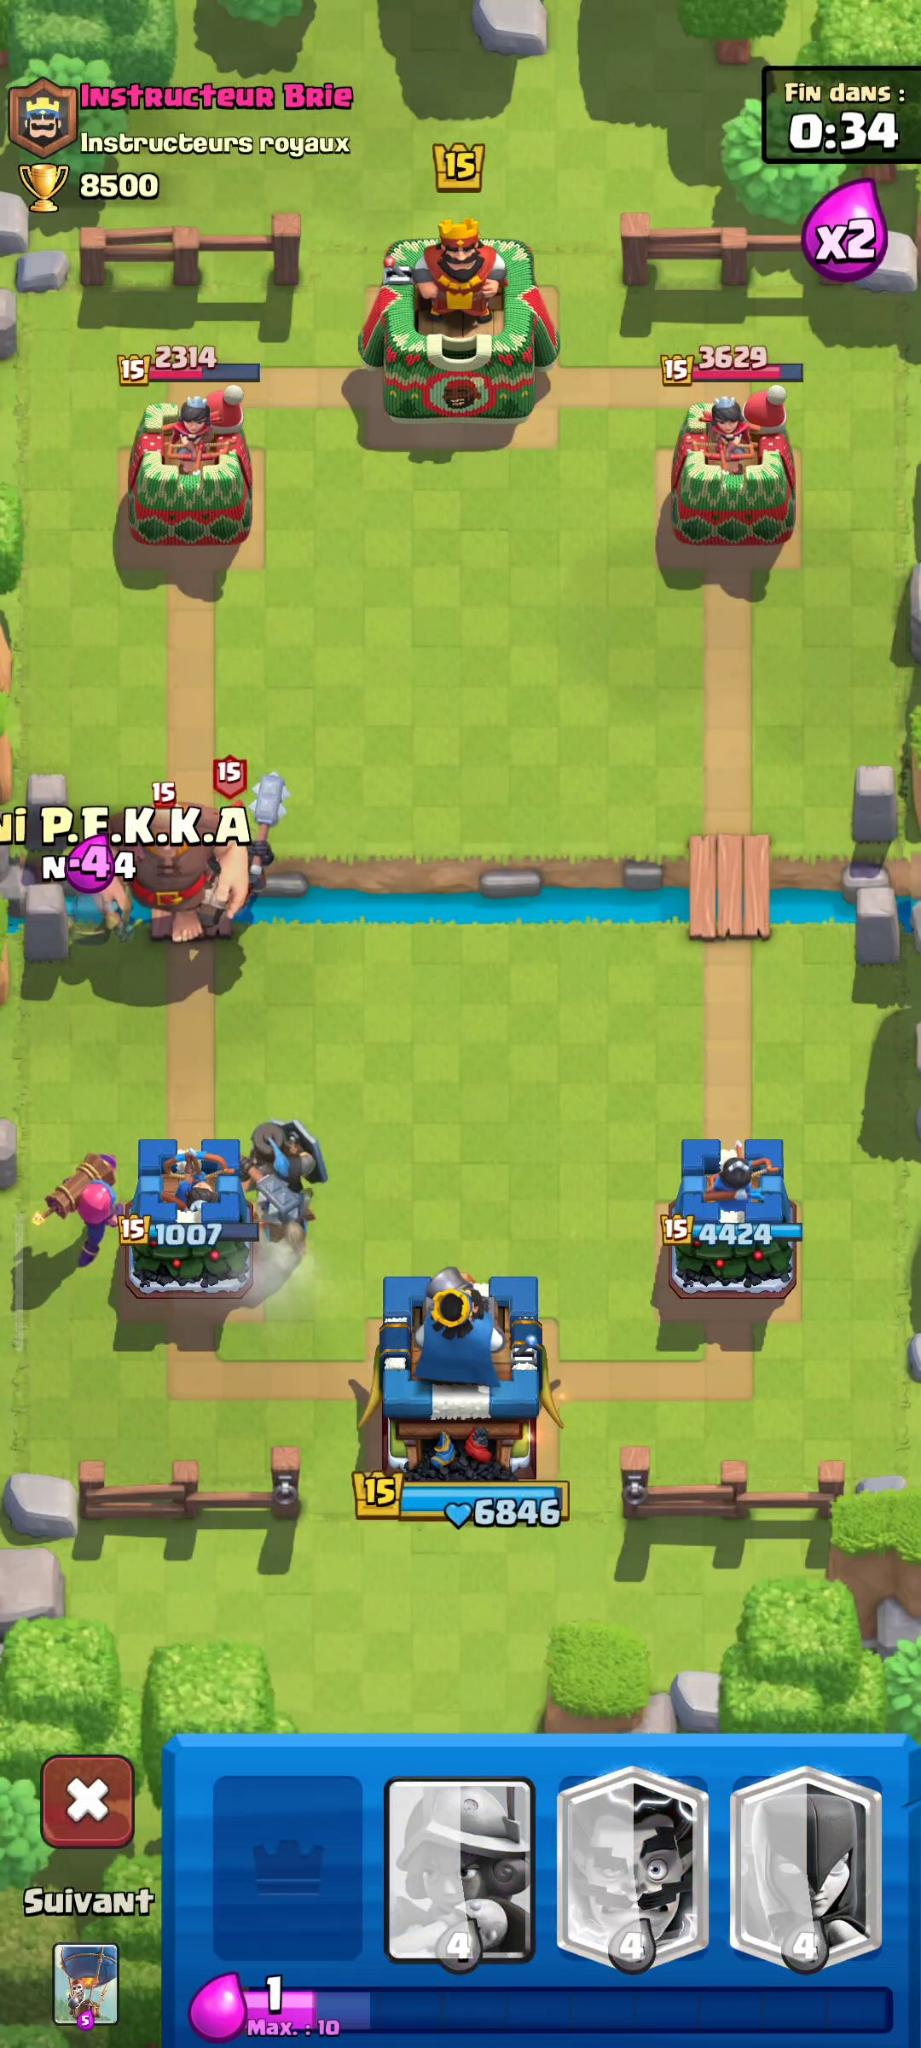geant: (107, 777, 261, 969)
mini_PEKKA: (48, 842, 135, 977)
